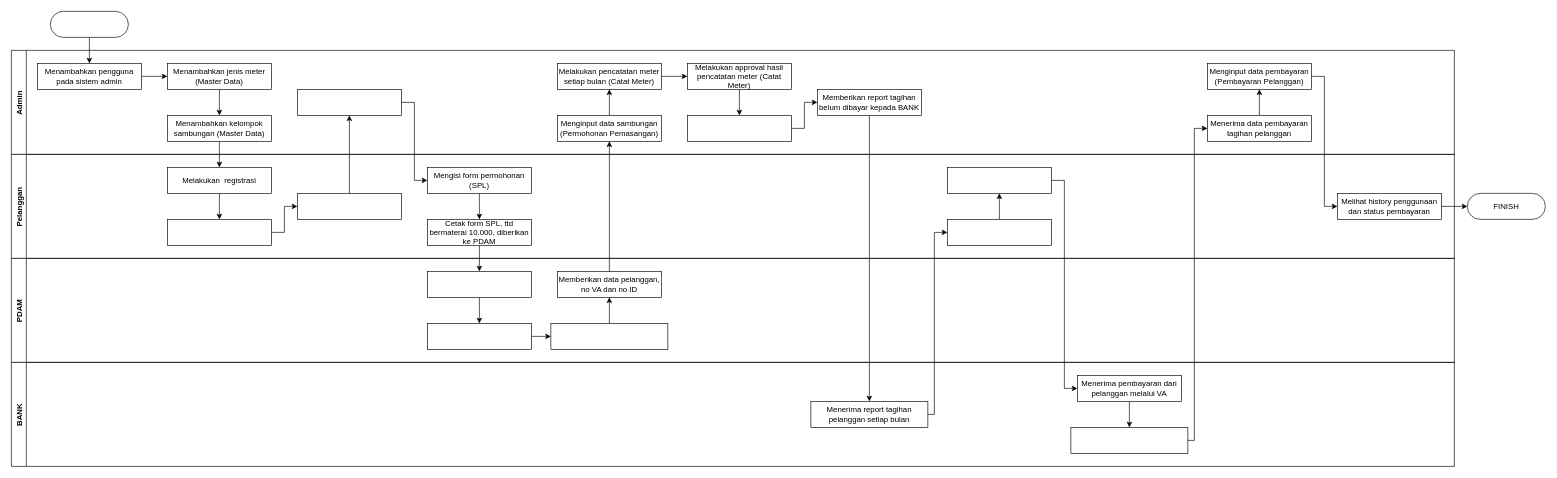
Image size: 1557x478. Some labels were removed from this diagram. The centre of each missing label's shape, as x and y in pixels:
"Cetak report tagihan (Penggunaan Pelanggan)" belongs at (x=739, y=128).
"Melakukan Login" belongs at (x=219, y=232).
"Membayar tagihan melalui VA" belongs at (x=999, y=180).
"Memberikan data pembayaran tagihan pelanggan" belongs at (x=1129, y=440).
"Menerima form SPL dari pelanggan" belongs at (x=479, y=284).
"Mengecek tagihan setiap bulan" belongs at (x=999, y=232).
"Proses pemasangan meter sesuai permohonan pelanggan" belongs at (x=609, y=336).
"START" belongs at (x=89, y=24).
"Upload foto KTP/SIM" belongs at (x=349, y=206).
"Verifikasi form SPL dan mendaftarkan pelanggan" belongs at (x=479, y=336).
"Verifikasi KTP/SIM akun (Pelanggan Baru)" belongs at (x=349, y=102).
